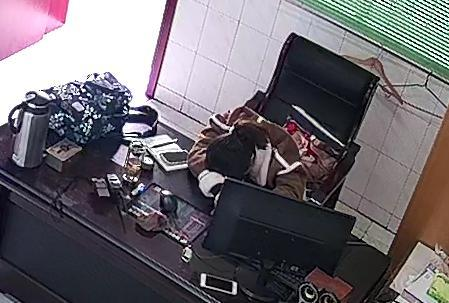sleep: (171, 96, 333, 210)
